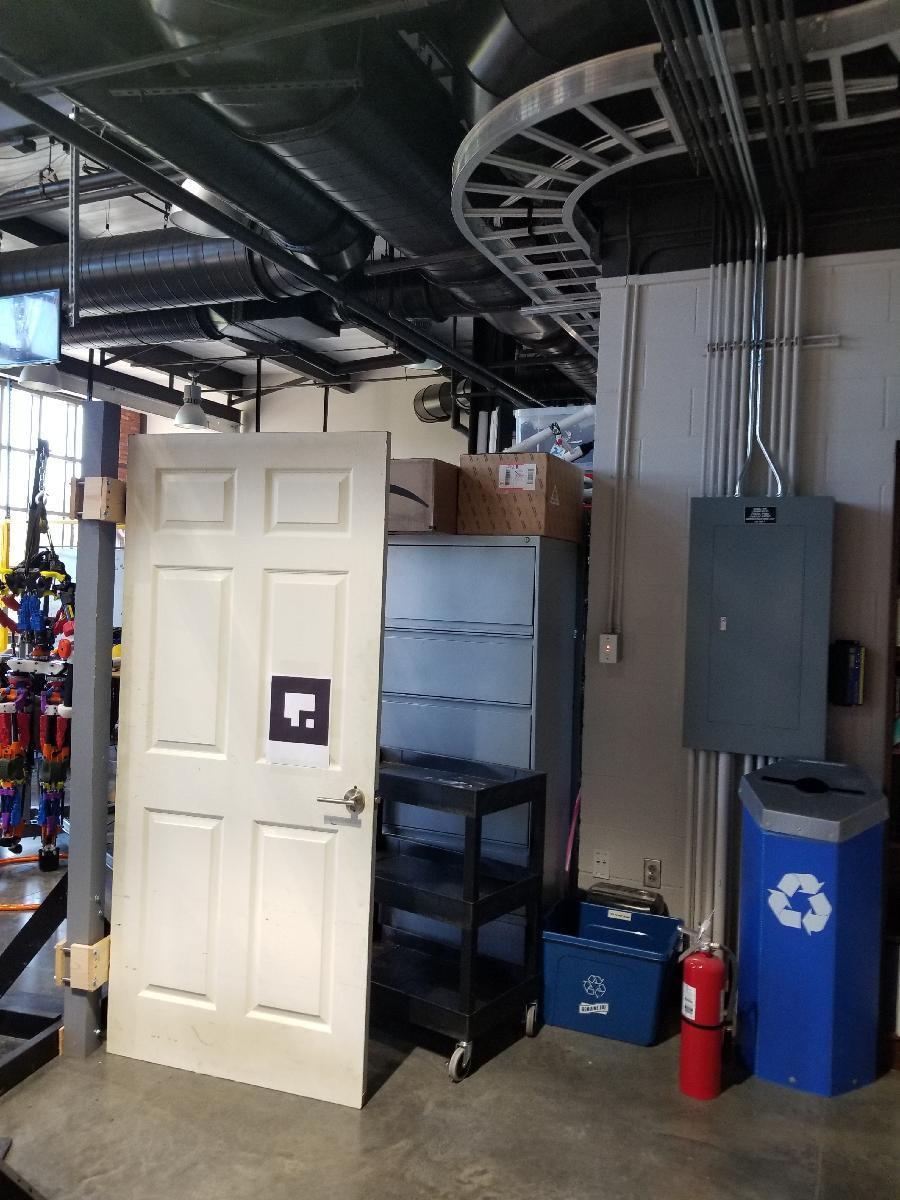door: (128, 428, 363, 1099)
handle: (310, 787, 368, 812)
